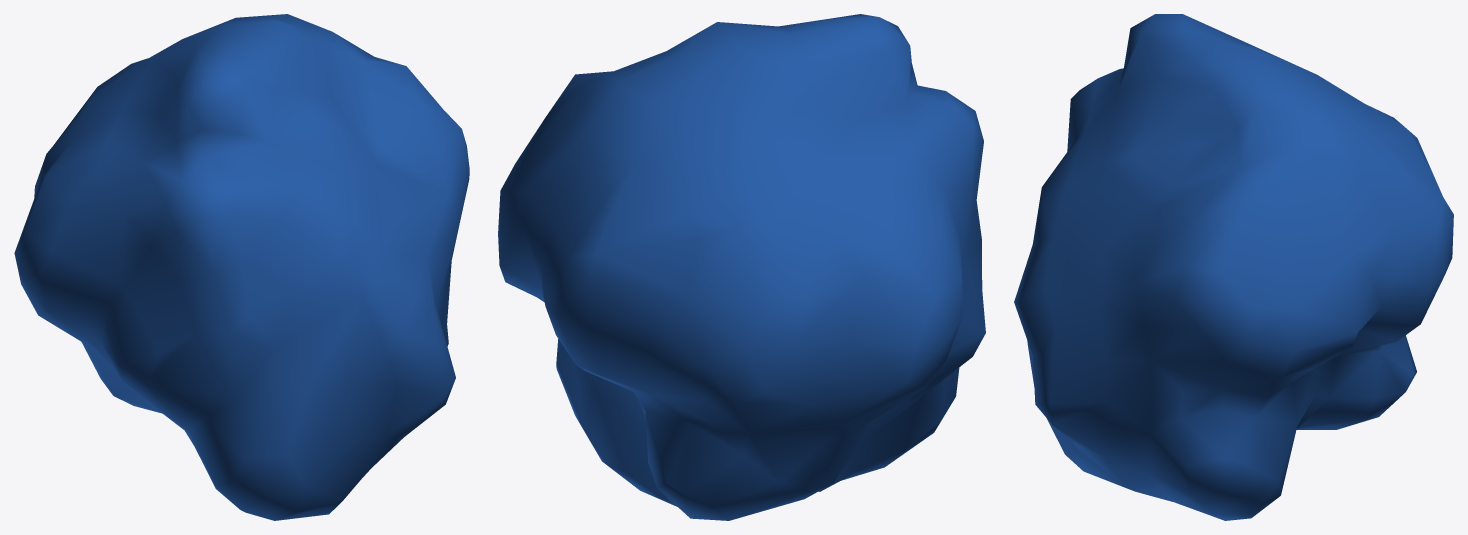
File: HIV1_CyclophilinA_1ak4_0_1_1.dae
3 views of the same model, side by side, from view 1: azimuth 30°, elevation 25°; view 2: azimuth 150°, elevation 25°; view 3: azimuth 270°, elevation 25° (orthographic). The views are drawn at different scales.
Parts seen in each view (by area): view 1: CoarseMS_1AK4A; view 2: CoarseMS_1AK4A; view 3: CoarseMS_1AK4A.
Boxes of the visible parts, <box> form: CoarseMS_1AK4A: <box>14,14,469,520</box>; CoarseMS_1AK4A: <box>498,14,985,520</box>; CoarseMS_1AK4A: <box>1014,14,1453,520</box>.
Size of the model in its own units: 0.4208 by 0.4361 by 0.3969.
